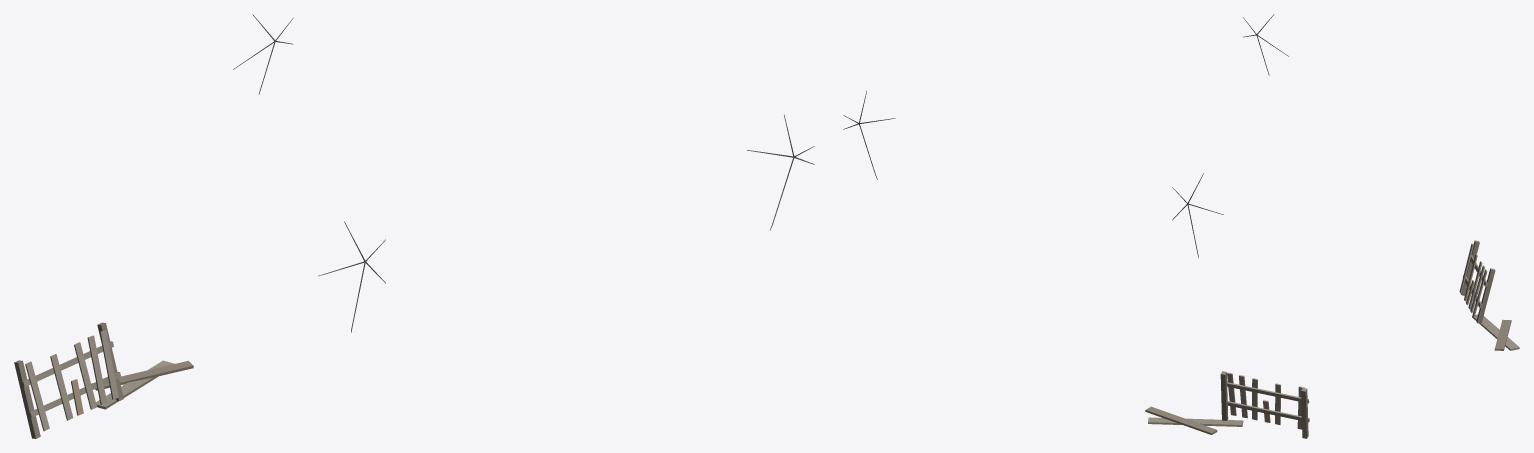
File: house_worn_manor2_low.glb
3 views of the same model, side by side, from view 1: azimuth 30°, elevation 25°; view 2: azimuth 150°, elevation 25°; view 3: azimuth 270°, elevation 25° (orthographic). The views are drawn at different scales.
Bounding box in the file's own units: 9.5 × 5.91 × 2.98.
